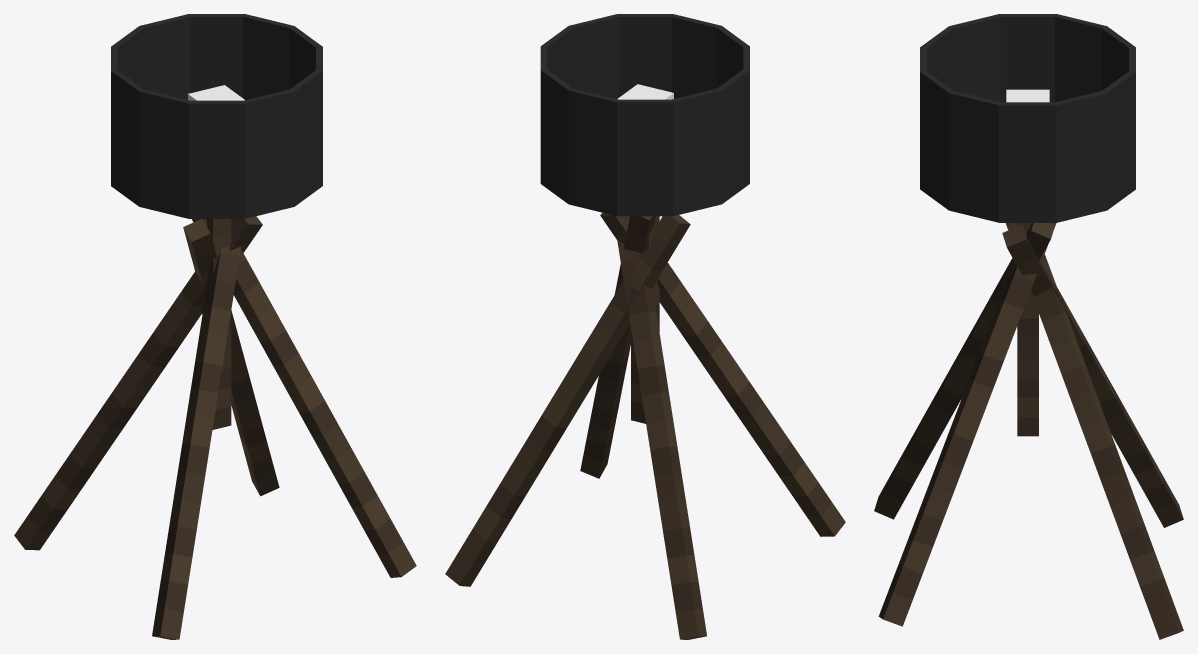
File: floor_lamp.gltf
3 views of the same model, side by side, from view 1: azimuth 30°, elevation 25°; view 2: azimuth 150°, elevation 25°; view 3: azimuth 270°, elevation 25° (orthographic). The views are drawn at different scales.
Visible parts, largest first — view 1: tube, cube (×6); view 2: tube, cube (×6); view 3: tube, cube (×6).
Boxes of the visible parts, bbox=[...] form: tube: bbox=[111, 14, 322, 218]; cube (×6): bbox=[14, 85, 416, 639]; tube: bbox=[540, 14, 749, 216]; cube (×6): bbox=[445, 84, 845, 639]; tube: bbox=[920, 14, 1135, 222]; cube (×6): bbox=[874, 89, 1183, 639].
Size of the model in its own units: 8.8 by 16.7 by 8.96.
